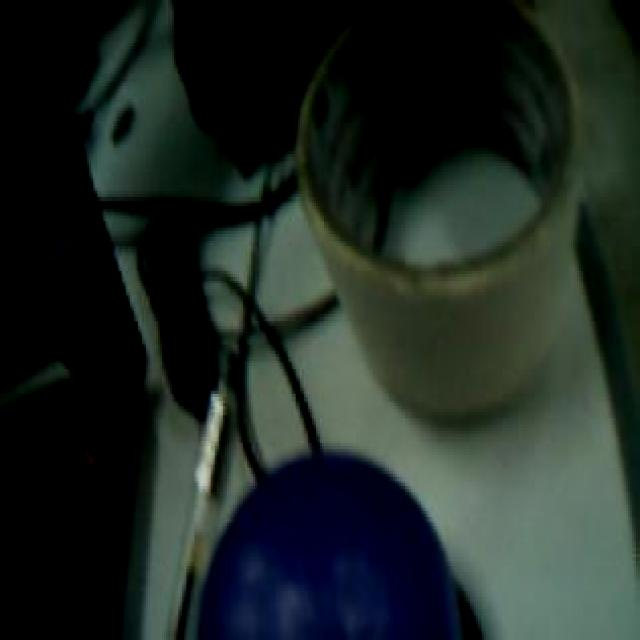BallPurple: (196, 452, 462, 640)
